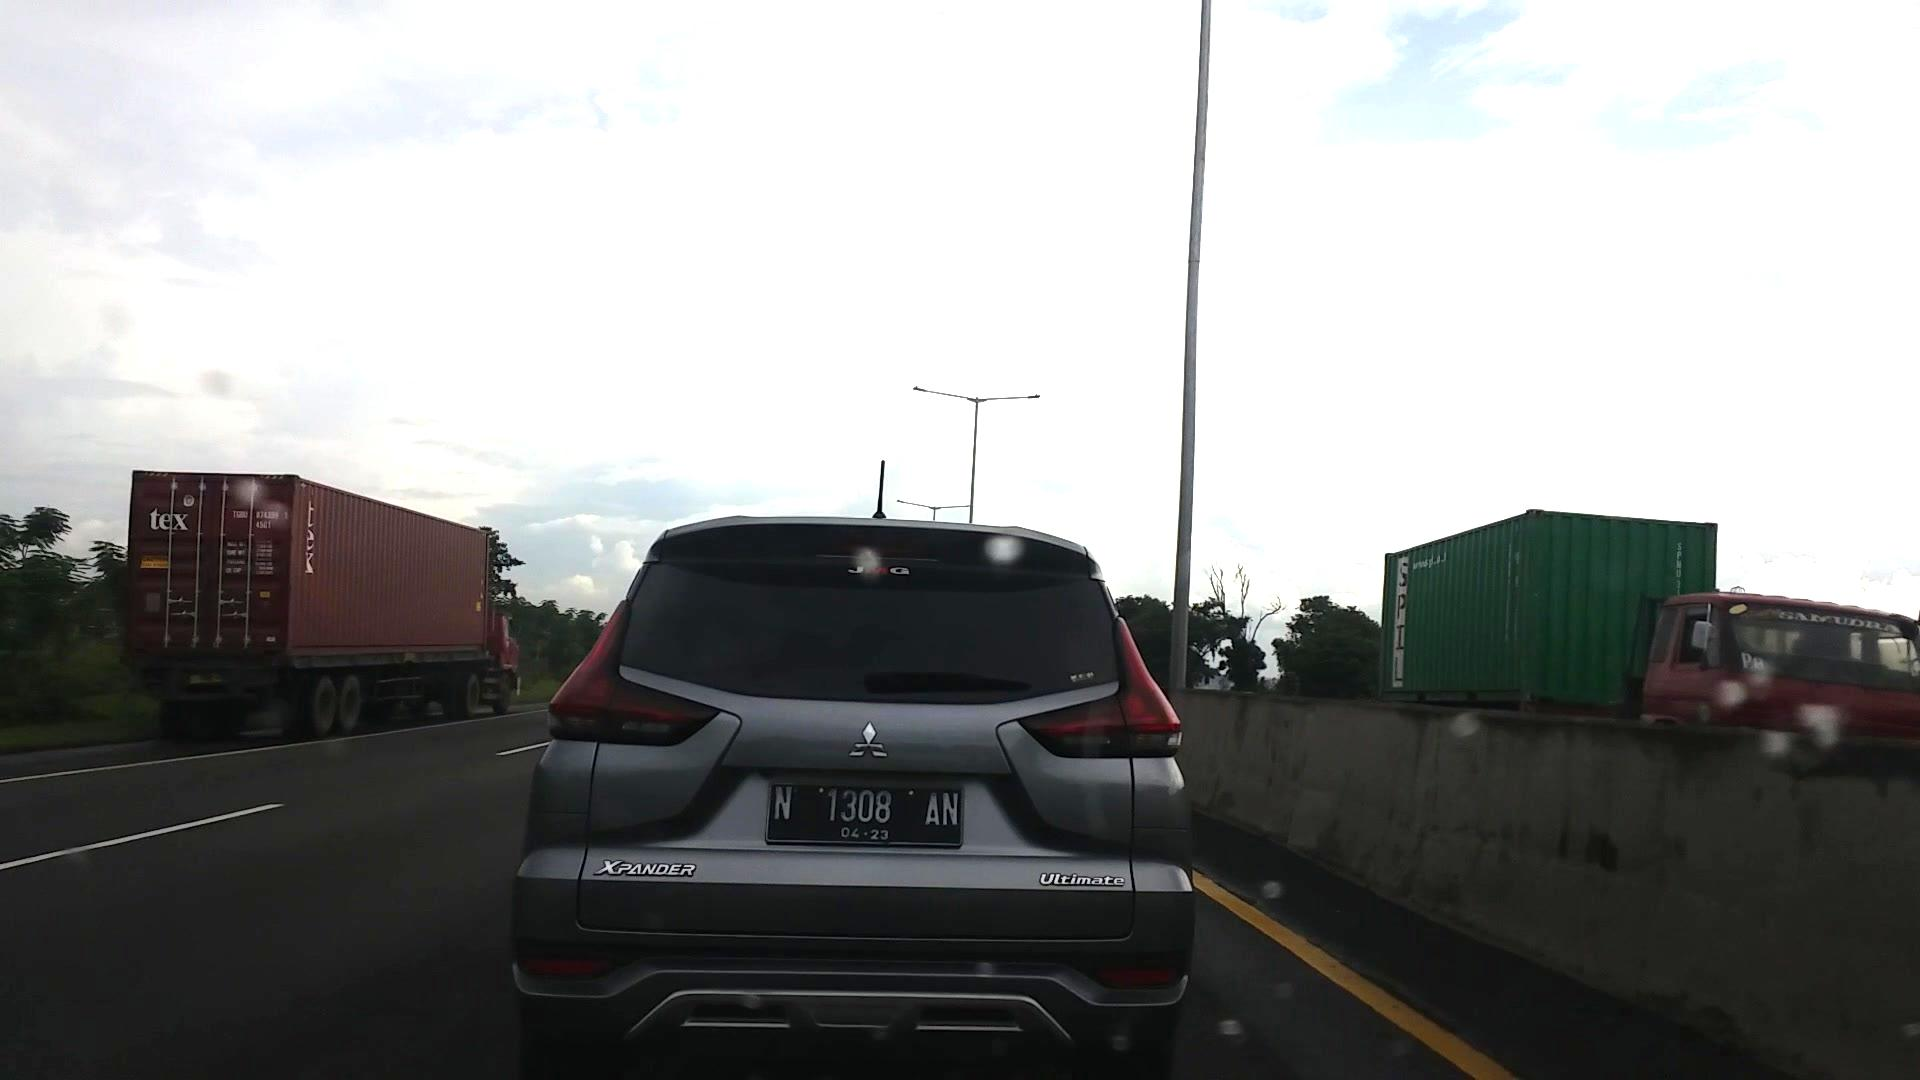plate_positive: (765, 783, 964, 849)
